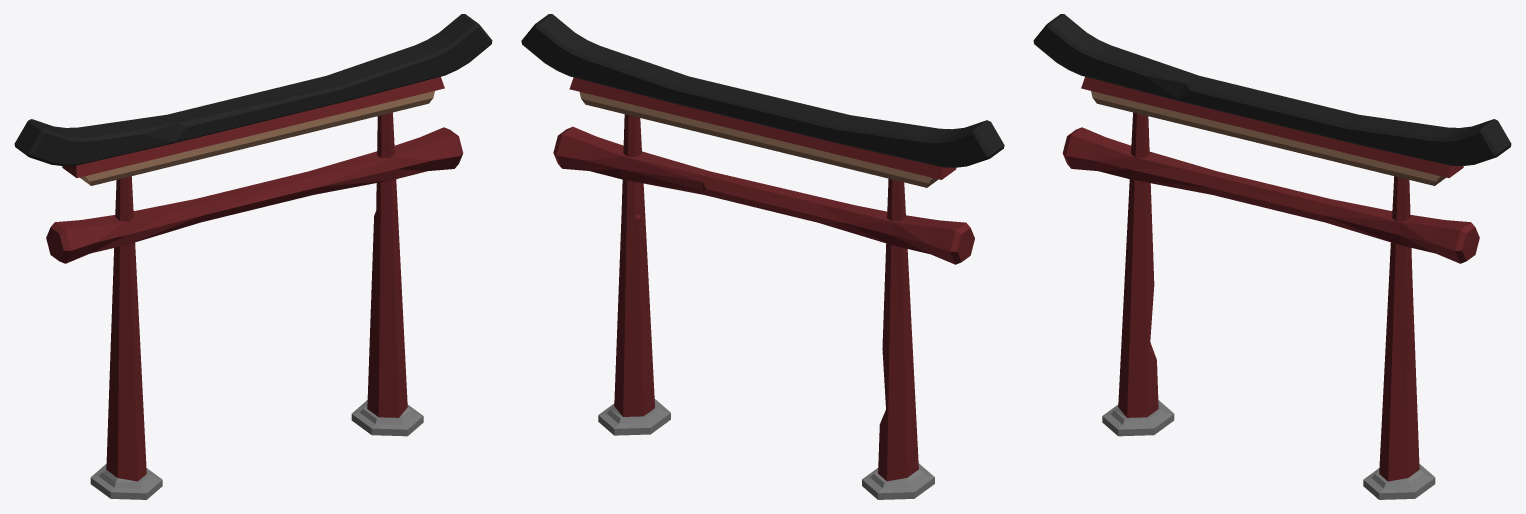
Rendered from Tora_2 Asia.fbx.
3 renders of one model, left to right at view 1: azimuth 30°, elevation 25°; view 2: azimuth 150°, elevation 25°; view 3: azimuth 330°, elevation 25°, orthographic.
Visible parts, largest first — view 1: Tora_2; view 2: Tora_2; view 3: Tora_2.
Part boxes in pixels (x1,y1,x2,y2): Tora_2: (14, 14, 492, 499); Tora_2: (521, 14, 1004, 499); Tora_2: (1033, 14, 1511, 499).
Size of the model in its own units: 4.57 by 3.57 by 0.6903.
